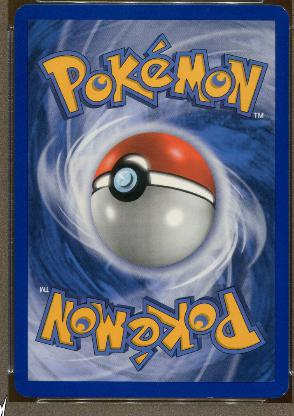Card: (12, 1, 290, 400)
Corner Wear: (279, 7, 287, 14), (280, 390, 287, 396), (16, 6, 20, 12)
Edge Wear: (204, 396, 213, 398)
